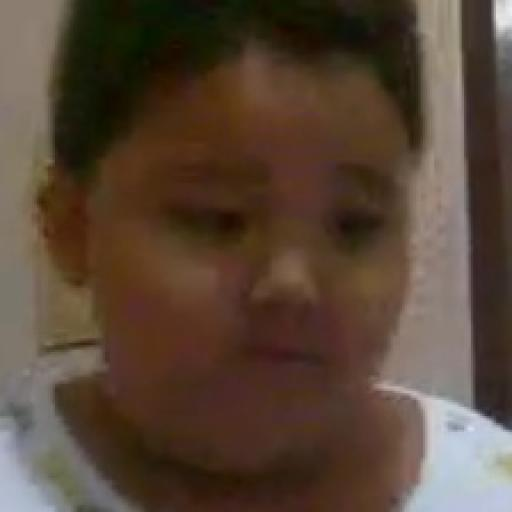Autism: (43, 0, 464, 506)
